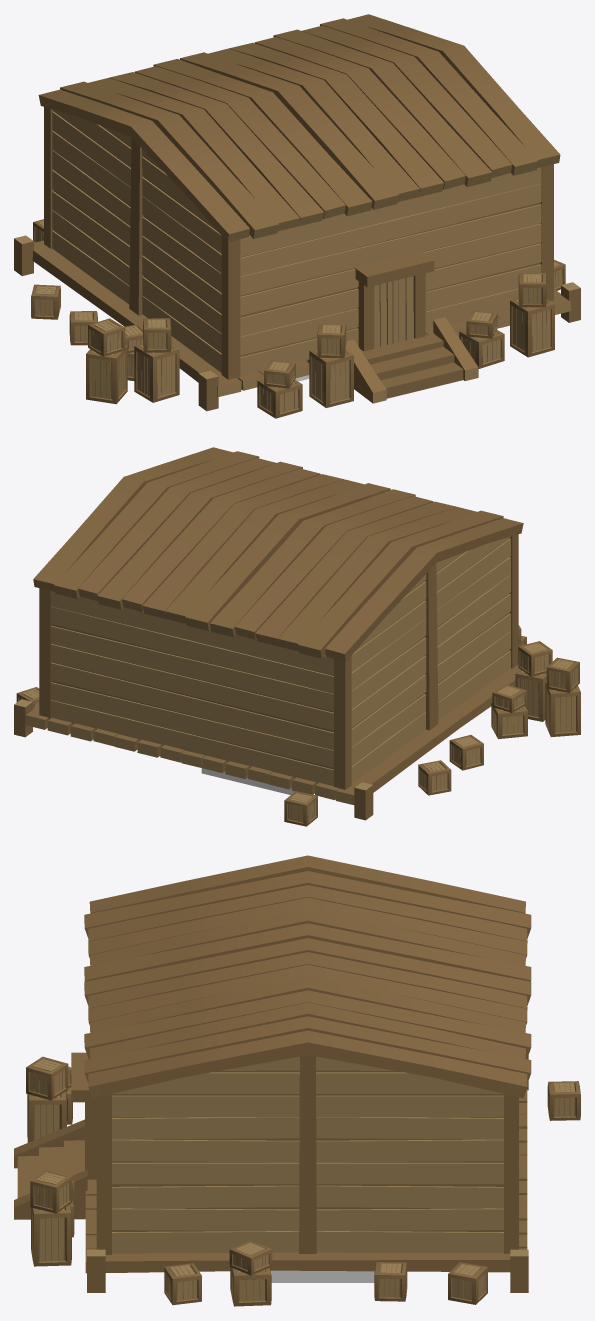
The model's file is storage-shed.glb.
3 renders of one model, top to bottom at view 1: azimuth 30°, elevation 25°; view 2: azimuth 150°, elevation 25°; view 3: azimuth 270°, elevation 25°, orthographic. The views are drawn at different scales.
Parts seen in each view (by area): view 1: Storage_FirstAge_Leve3; view 2: Storage_FirstAge_Leve3, Cube; view 3: Storage_FirstAge_Leve3, Cube.
Boxes of the visible parts, x1=… form: Storage_FirstAge_Leve3: x1=14, y1=14, x2=580, y2=418; Storage_FirstAge_Leve3: x1=14, y1=447, x2=580, y2=826; Cube: x1=201, y1=768, x2=294, y2=794; Storage_FirstAge_Leve3: x1=14, y1=855, x2=580, y2=1306; Cube: x1=270, y1=1270, x2=374, y2=1282.
Bounding box in the file's own units: 8.96 × 4.79 × 8.08.
